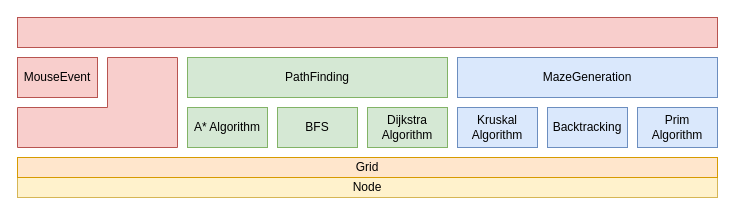
The diagram is 735 pixels wide and 215 high, and some of its shapes have lost their labels. The box of each missing label's shape, as (x1, y1, x2, y2) in pixels:
Frame: (16, 16, 718, 48)
GridPanel: (16, 56, 178, 148)
